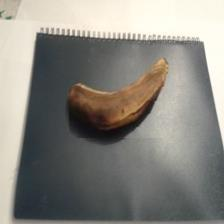Banana Rotten: (69, 63, 174, 138)
